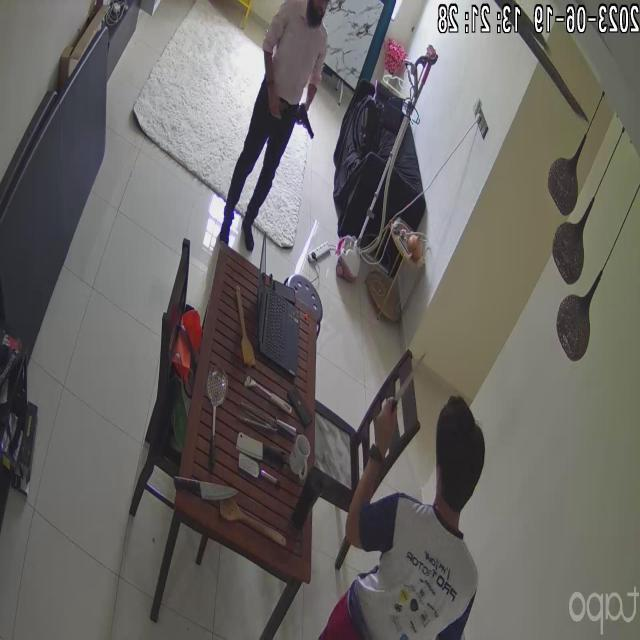Gun: (275, 92, 323, 144)
Knife: (370, 335, 432, 422), (161, 468, 241, 508)
